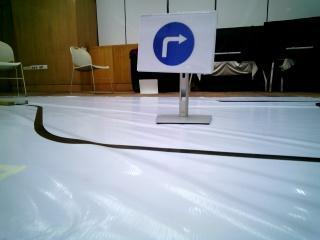right: (142, 15, 211, 69)
